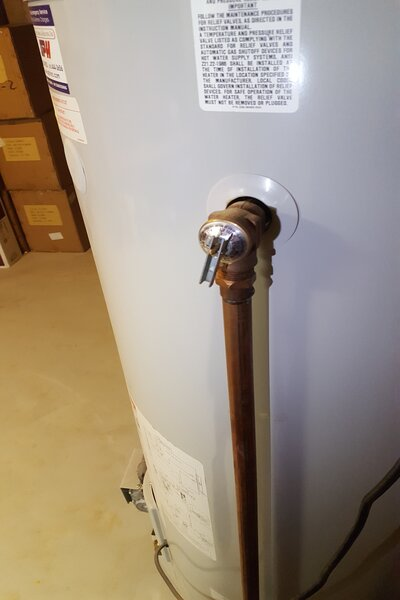valve: (198, 199, 270, 311)
